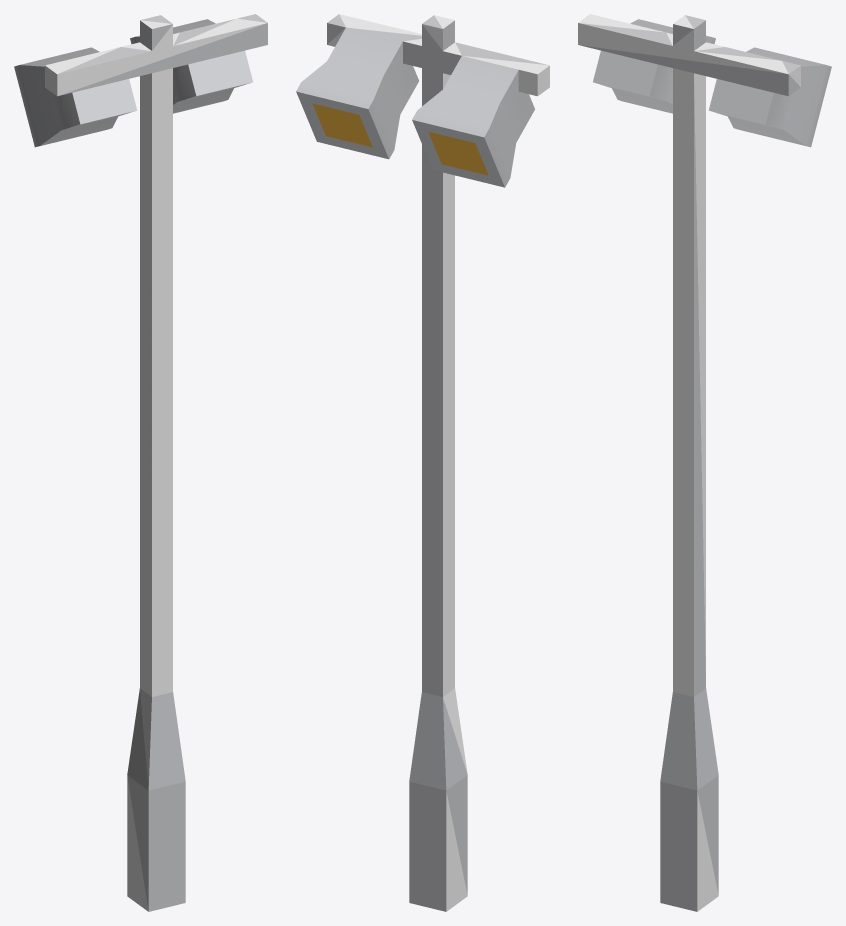
The model's file is lightPost_exclusive.obj.
3 views of the same model, side by side, from view 1: azimuth 30°, elevation 25°; view 2: azimuth 150°, elevation 25°; view 3: azimuth 330°, elevation 25° (orthographic).
Parts seen in each view (by area): view 1: lightPost_exclusive; view 2: lightPost_exclusive; view 3: lightPost_exclusive.
Boxes of the visible parts, x1=… form: lightPost_exclusive: x1=14, y1=14, x2=267, y2=911; lightPost_exclusive: x1=296, y1=14, x2=549, y2=911; lightPost_exclusive: x1=578, y1=14, x2=831, y2=911.
Bounding box in the file's own units: 0.2 × 0.7957 × 0.0971.
